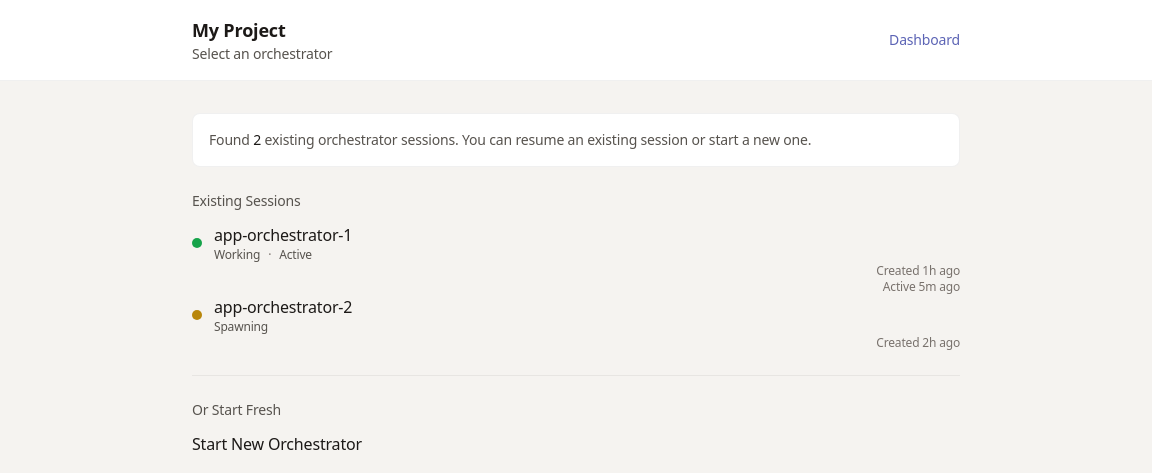
Test case: OrchestratorSelector › shows loading state while spawning
What coordinates should you click on to do the following:
click the button "Start New Orchestrator"
I would click on:
 (277, 444)
Its box is left=192, top=432, right=362, bottom=456.
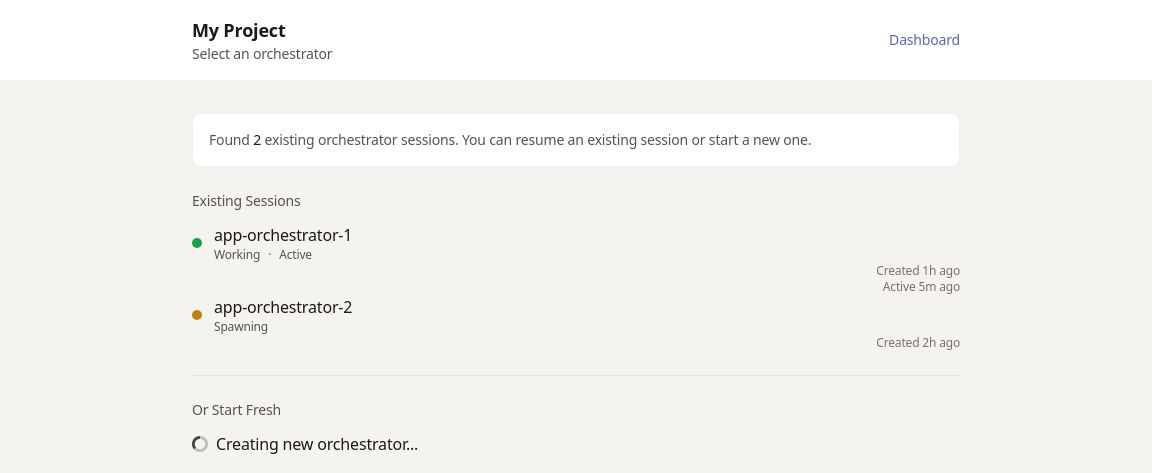
Expected: the text "Creating new orchestrator..." is shown, left=192, top=432, right=418, bottom=456
